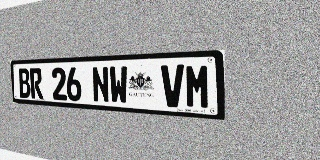2: (52, 67, 67, 100)
6: (66, 67, 82, 101)
B: (18, 68, 31, 98)
M: (185, 64, 211, 109)
N: (92, 66, 110, 103)
R: (29, 68, 43, 99)
V: (161, 64, 185, 108)
W: (109, 66, 128, 104)
